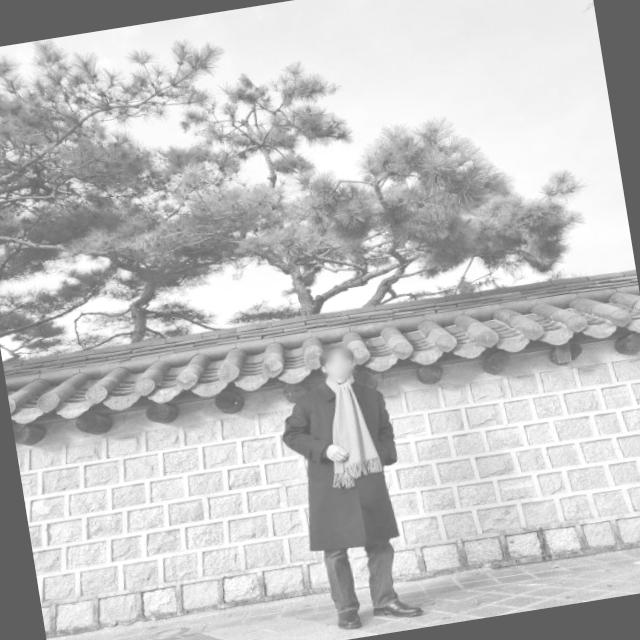coat: (273, 371, 411, 558)
denimpants: (324, 542, 403, 616)
